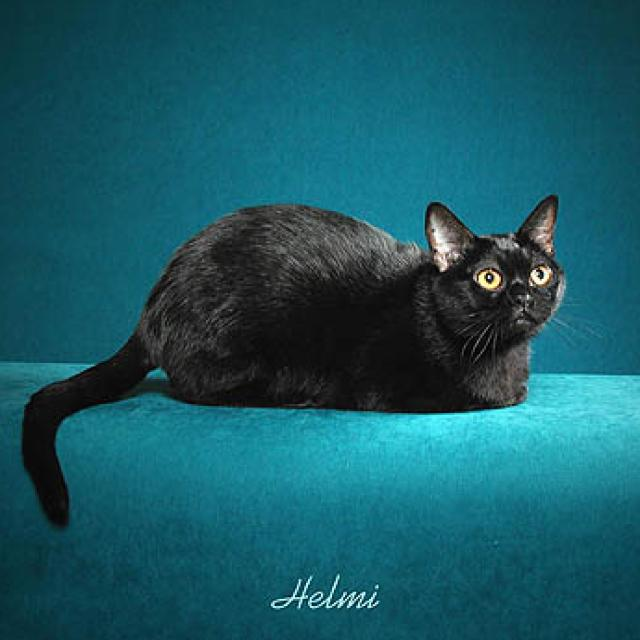Bombay: (17, 191, 571, 529)
